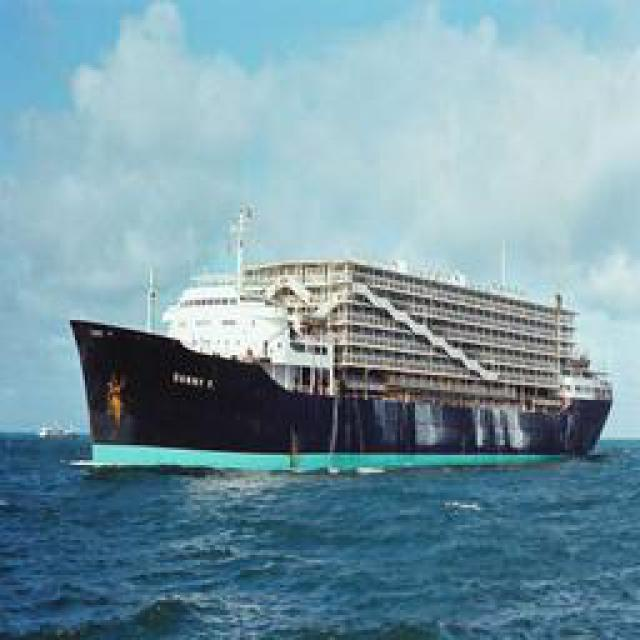Ship: (73, 191, 608, 475)
